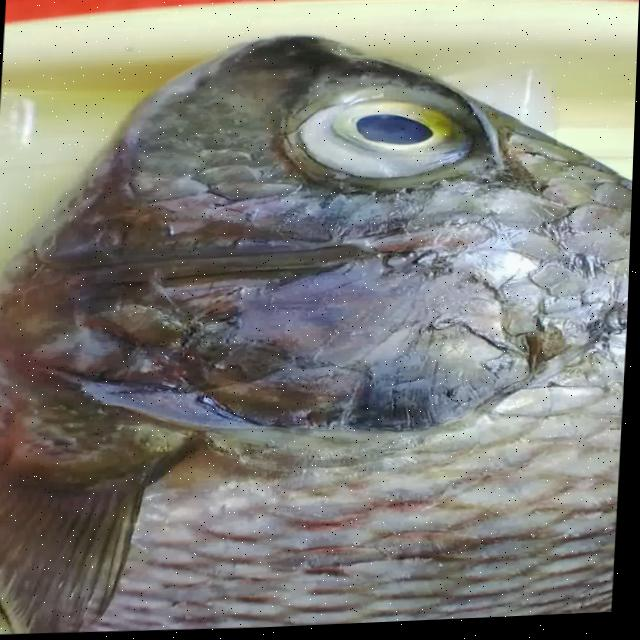Fresh: (0, 302, 630, 640), (262, 67, 538, 199)
